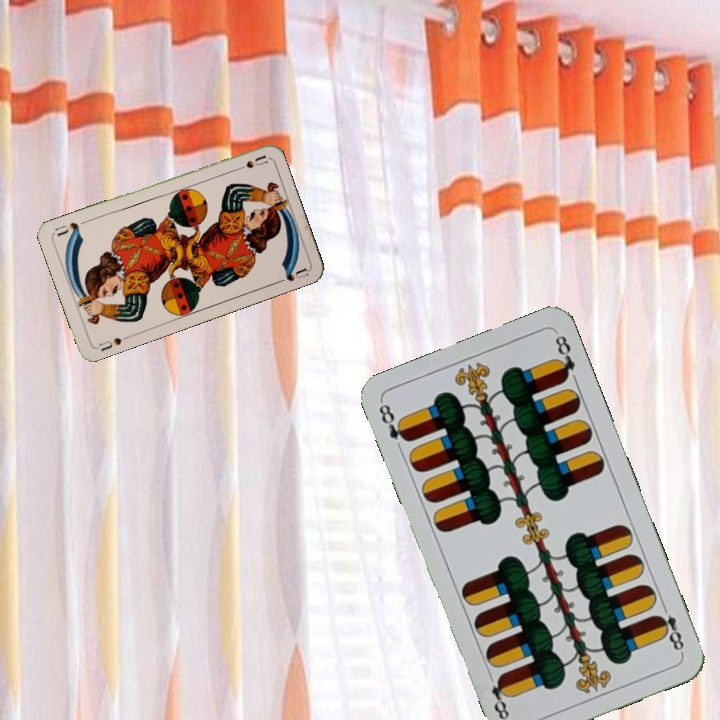E8: (652, 599, 687, 656), (375, 399, 413, 445)
SU: (229, 151, 270, 174), (95, 333, 124, 354)
